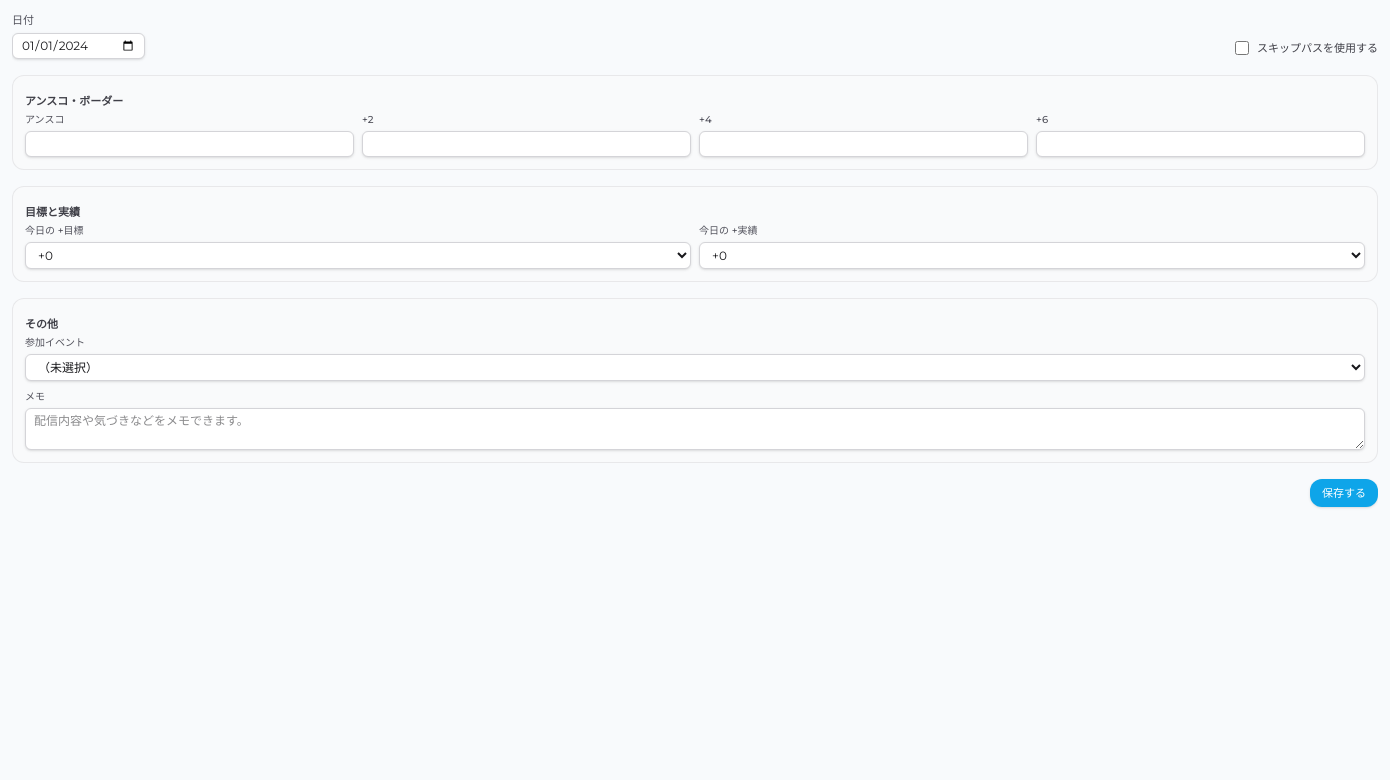
Test: ScheduleForm › action がバリデーションエラーを返したとき、エラー一覧とフィールド単位のエラーが表示される
Step 1. Click the button "保存する" → [1344, 493], box [1310,478,1378,507]
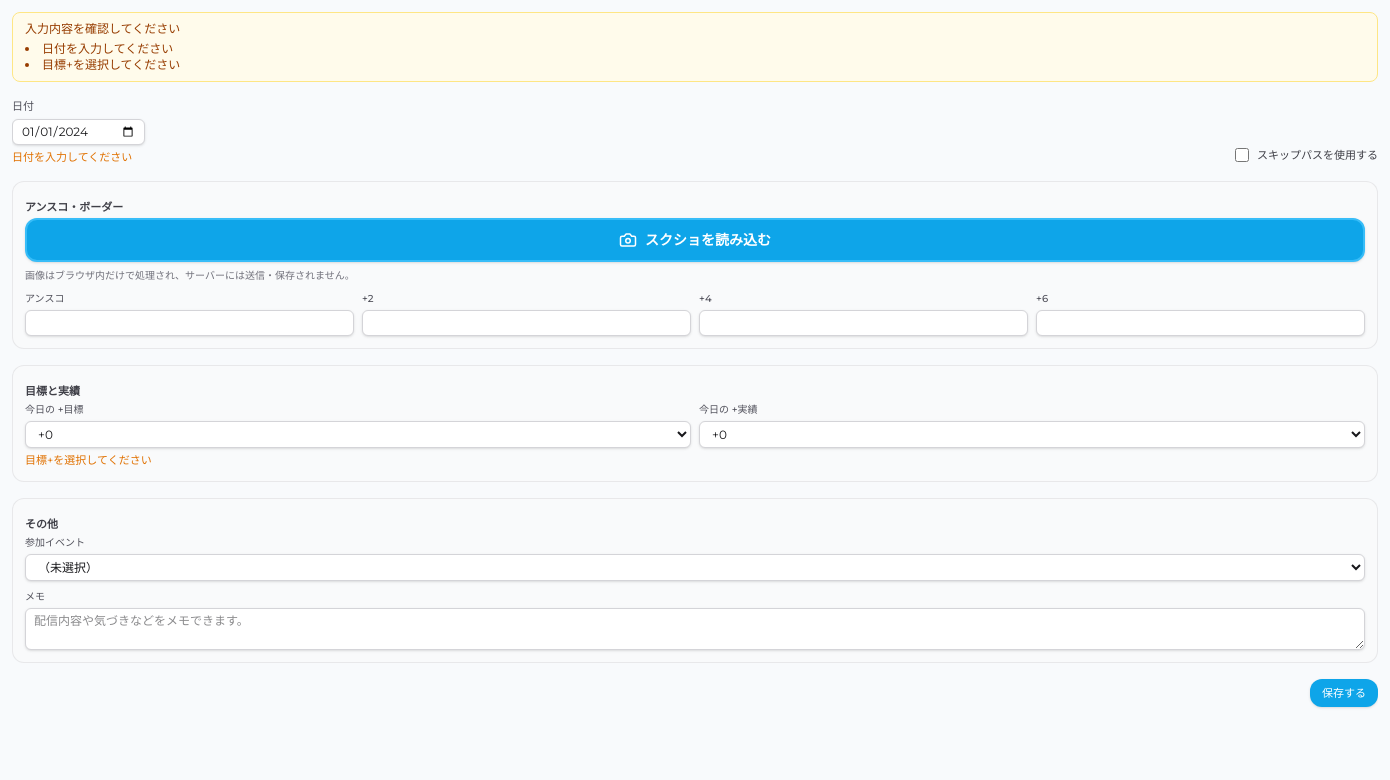
Check: the text "入力内容を確認してください" is shown, box [25,21,180,36]
